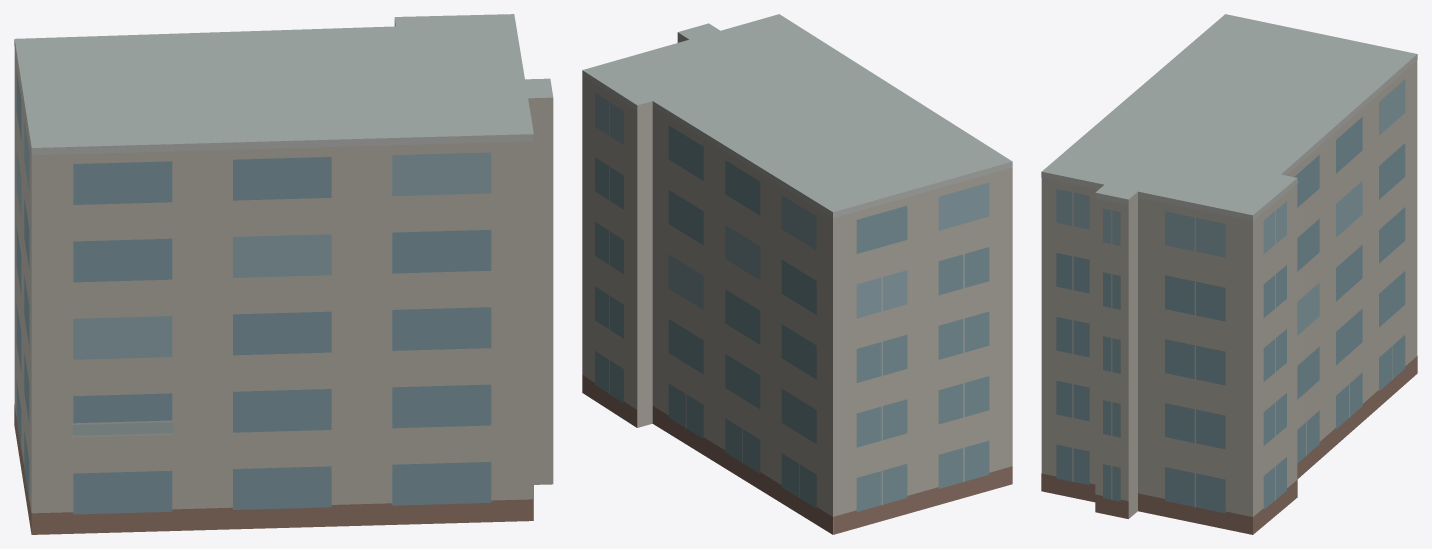
Rendered from survey-upis-33011515.glb.
3 views of the same model, side by side, from view 1: azimuth 30°, elevation 25°; view 2: azimuth 150°, elevation 25°; view 3: azimuth 270°, elevation 25° (orthographic). The views are drawn at different scales.
Parts seen in each view (by area): view 1: survey-upis-33011515.tmp; view 2: survey-upis-33011515.tmp; view 3: survey-upis-33011515.tmp.
Part boxes in pixels (bbox=[...]): survey-upis-33011515.tmp: bbox=[14, 14, 553, 534]; survey-upis-33011515.tmp: bbox=[582, 14, 1012, 534]; survey-upis-33011515.tmp: bbox=[1041, 14, 1417, 534].
Size of the model in its own units: 17.71 by 13.1 by 13.97.
